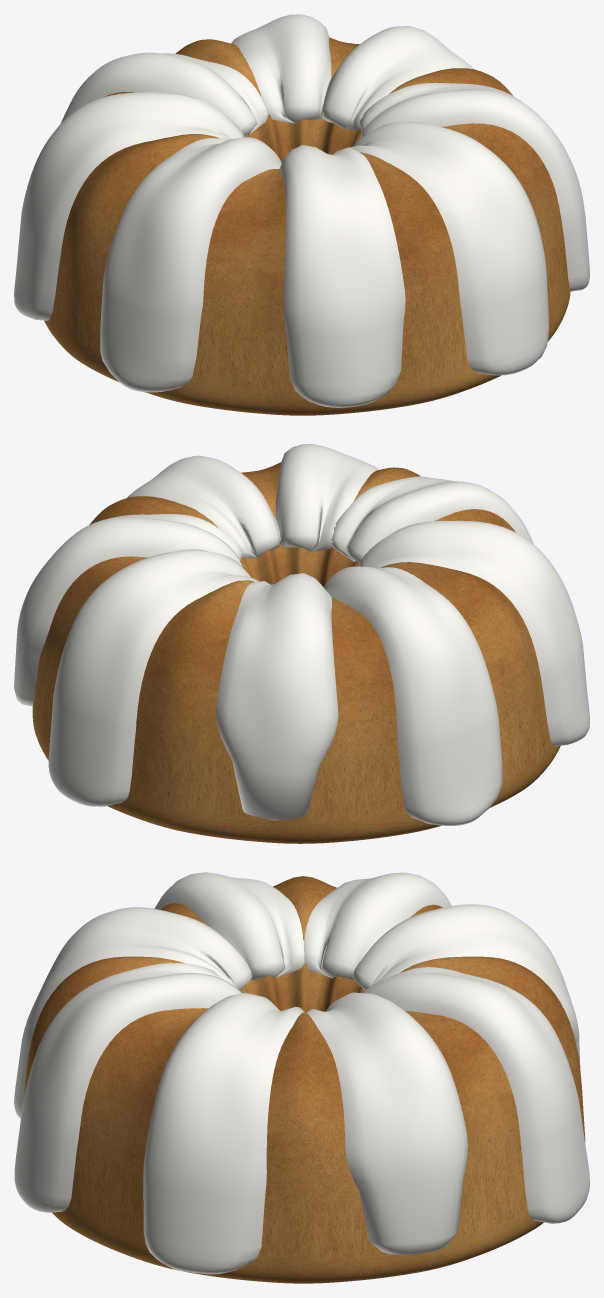
Rendered from bundt_vanilla_8.glb.
The picture shows the model from 3 angles, top to bottom: view 1: azimuth 30°, elevation 25°; view 2: azimuth 150°, elevation 25°; view 3: azimuth 270°, elevation 25°; orthographic projection. The views are drawn at different scales.
Visible parts, largest first — view 1: cake.001, frosting.005, frosting.004, frosting.006, frosting.003, frosting.007, frosting.002, frosting.001, frosting; view 2: cake.001, frosting.003, frosting.002, frosting.001, frosting.004, frosting, frosting.005, frosting.006, frosting.007; view 3: cake.001, frosting.007, frosting, frosting.001, frosting.006, frosting.002, frosting.005, frosting.004, frosting.003.
Boxes of the visible parts, bbox=[...] form: cake.001: bbox=[44, 37, 570, 415]; frosting.005: bbox=[279, 145, 405, 407]; frosting.004: bbox=[100, 137, 281, 392]; frosting.006: bbox=[350, 122, 549, 375]; frosting.003: bbox=[14, 92, 245, 320]; frosting.007: bbox=[359, 82, 589, 291]; frosting.002: bbox=[60, 52, 268, 135]; frosting.001: bbox=[231, 14, 331, 123]; frosting: bbox=[321, 26, 473, 130]; cake.001: bbox=[32, 462, 560, 843]; frosting.003: bbox=[323, 566, 502, 825]; frosting.002: bbox=[215, 573, 338, 820]; frosting.001: bbox=[48, 549, 258, 806]; frosting.004: bbox=[358, 520, 589, 746]; frosting: bbox=[14, 514, 243, 706]; frosting.005: bbox=[331, 476, 533, 562]; frosting.006: bbox=[275, 444, 378, 551]; frosting.007: bbox=[126, 455, 280, 558]; cake.001: bbox=[24, 876, 585, 1283]; frosting.007: bbox=[143, 992, 304, 1274]; frosting: bbox=[306, 992, 467, 1254]; frosting.001: bbox=[363, 967, 589, 1223]; frosting.006: bbox=[14, 963, 241, 1212]; frosting.002: bbox=[352, 904, 580, 1066]; frosting.005: bbox=[14, 907, 252, 1118]; frosting.004: bbox=[154, 872, 304, 979]; frosting.003: bbox=[303, 872, 451, 979].
Bounding box in the file's own units: 0.2128 × 0.0942 × 0.2135.
2 materials, 1 textured.
